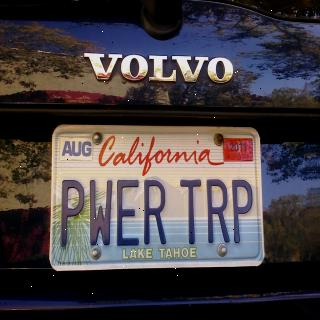license: (50, 124, 267, 273)
